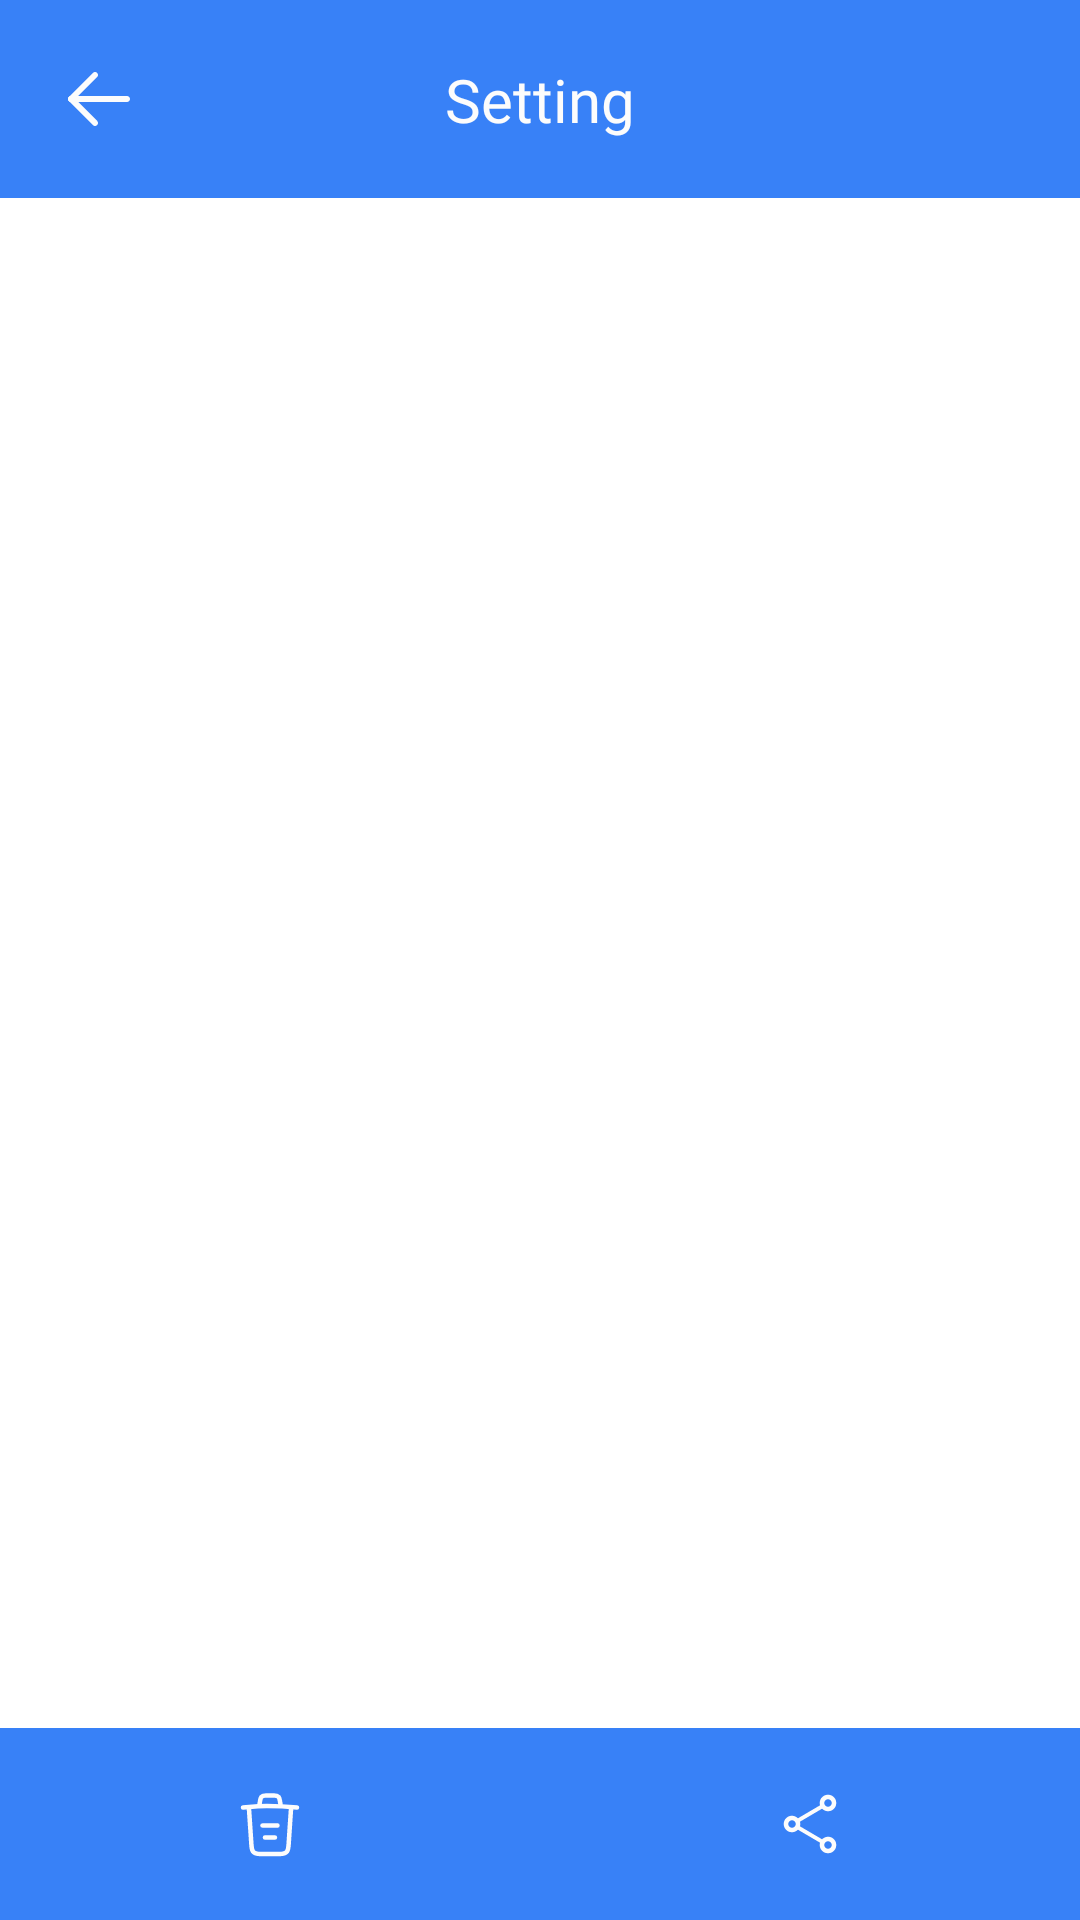

Where to tap for icons on this 1080px x 1920px app screen, as (x,y):
back: (99,99)
delete my gallery: (270,1825)
share: (810,1824)
